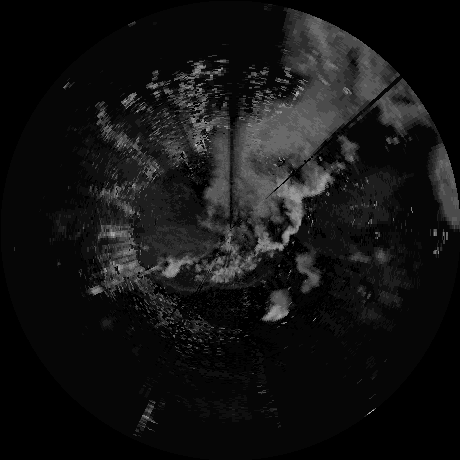frontgust: (157, 274, 213, 292)
